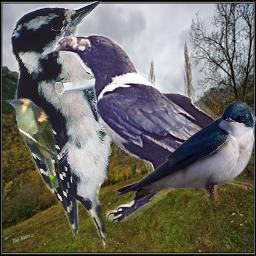Crow: (53, 33, 254, 222)
Cuckoo: (3, 97, 61, 192)
Swallow: (114, 101, 256, 201)
Woodpecker: (10, 1, 120, 251)
